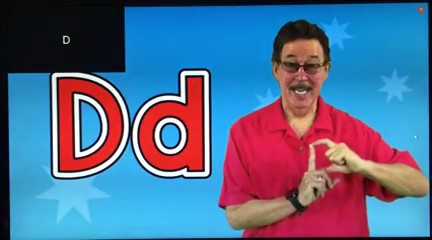D: (300, 137, 362, 198)
